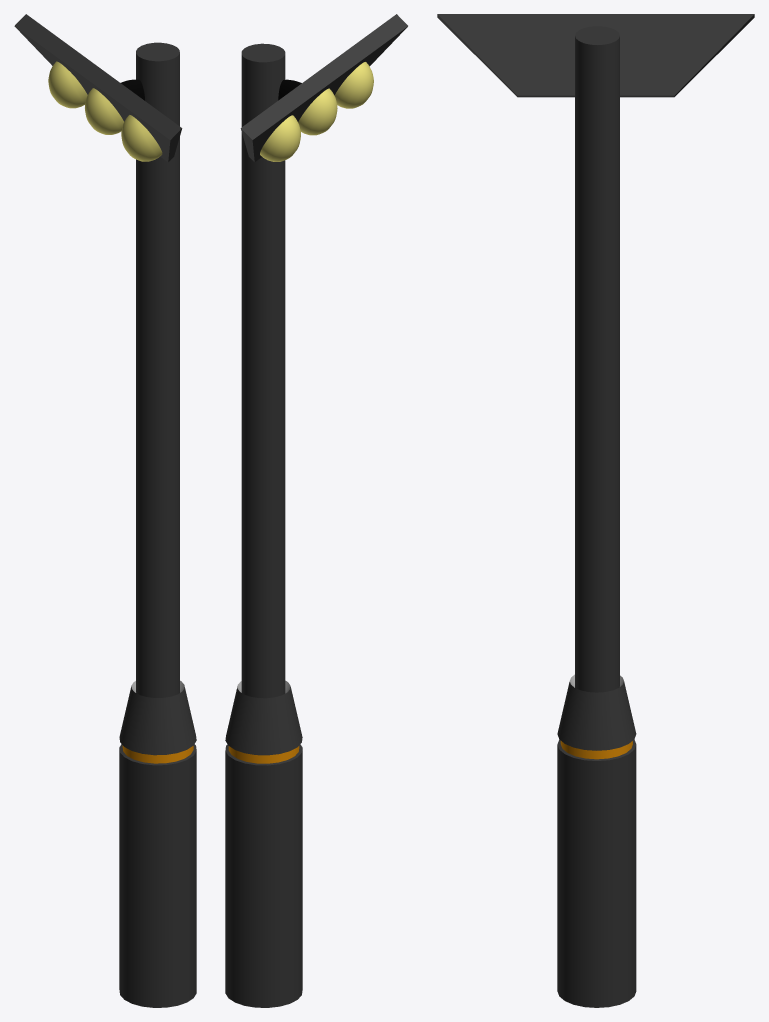
File: lightPole.fbx
3 renders of one model, left to right at view 1: azimuth 30°, elevation 25°; view 2: azimuth 150°, elevation 25°; view 3: azimuth 270°, elevation 25°, orthographic.
Visible parts, largest first — view 1: polySurface39; view 2: polySurface39; view 3: polySurface39.
Boxes of the visible parts, bbox=[...] form: polySurface39: bbox=[14, 14, 196, 1007]; polySurface39: bbox=[225, 14, 407, 1007]; polySurface39: bbox=[437, 14, 754, 1007].
Size of the model in its own units: 0.4289 by 3.71 by 1.12.
